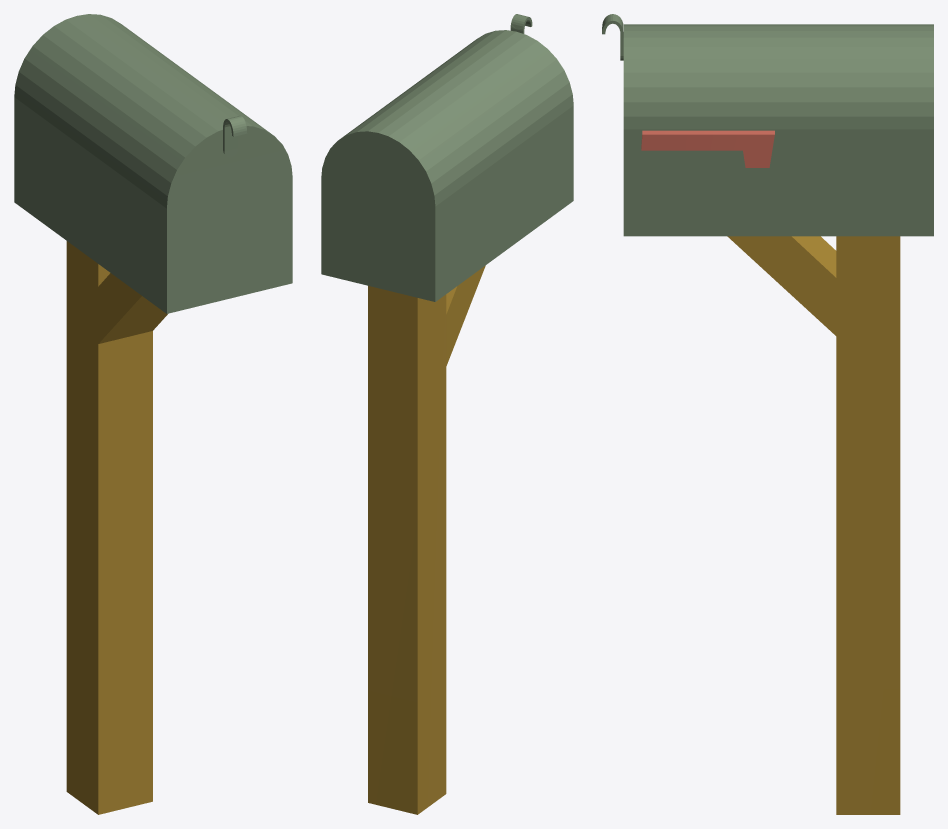
The model's file is residential-mailbox.glb.
The picture shows the model from 3 angles, left to right: view 1: azimuth 30°, elevation 25°; view 2: azimuth 150°, elevation 25°; view 3: azimuth 270°, elevation 25°; orthographic projection. The views are drawn at different scales.
Visible parts, largest first — view 1: residential-mailbox; view 2: residential-mailbox; view 3: residential-mailbox.
Part boxes in pixels (bbox=[...]): residential-mailbox: bbox=[14, 14, 292, 814]; residential-mailbox: bbox=[321, 14, 573, 814]; residential-mailbox: bbox=[602, 14, 933, 814].
Size of the model in its own units: 0.279 by 1.53 by 0.5877.
Materials: 1 (1 with a texture image).
